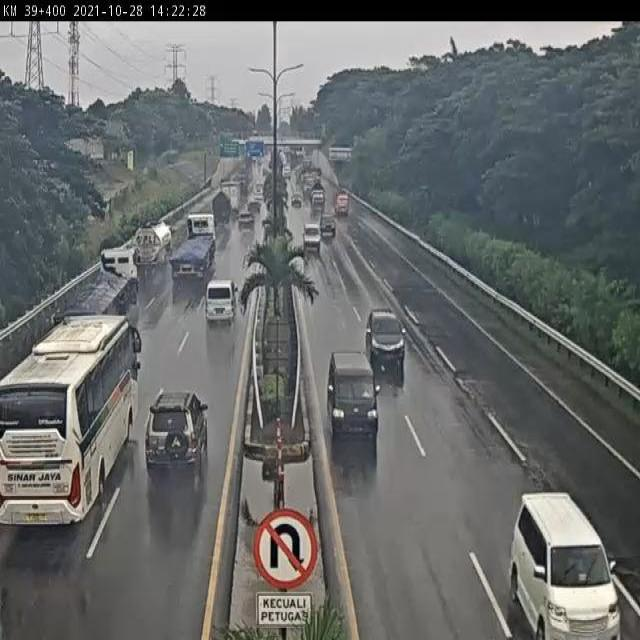bus-l-: (0, 314, 141, 530)
car: (507, 488, 623, 640), (143, 389, 210, 472), (327, 351, 380, 441), (366, 305, 407, 367), (203, 279, 238, 328), (234, 209, 257, 236), (301, 220, 320, 248), (318, 212, 335, 233)
truck-m-: (130, 217, 174, 271)
truck-s-: (209, 194, 234, 238)
truck-xl-: (38, 248, 138, 347), (170, 210, 218, 278)
